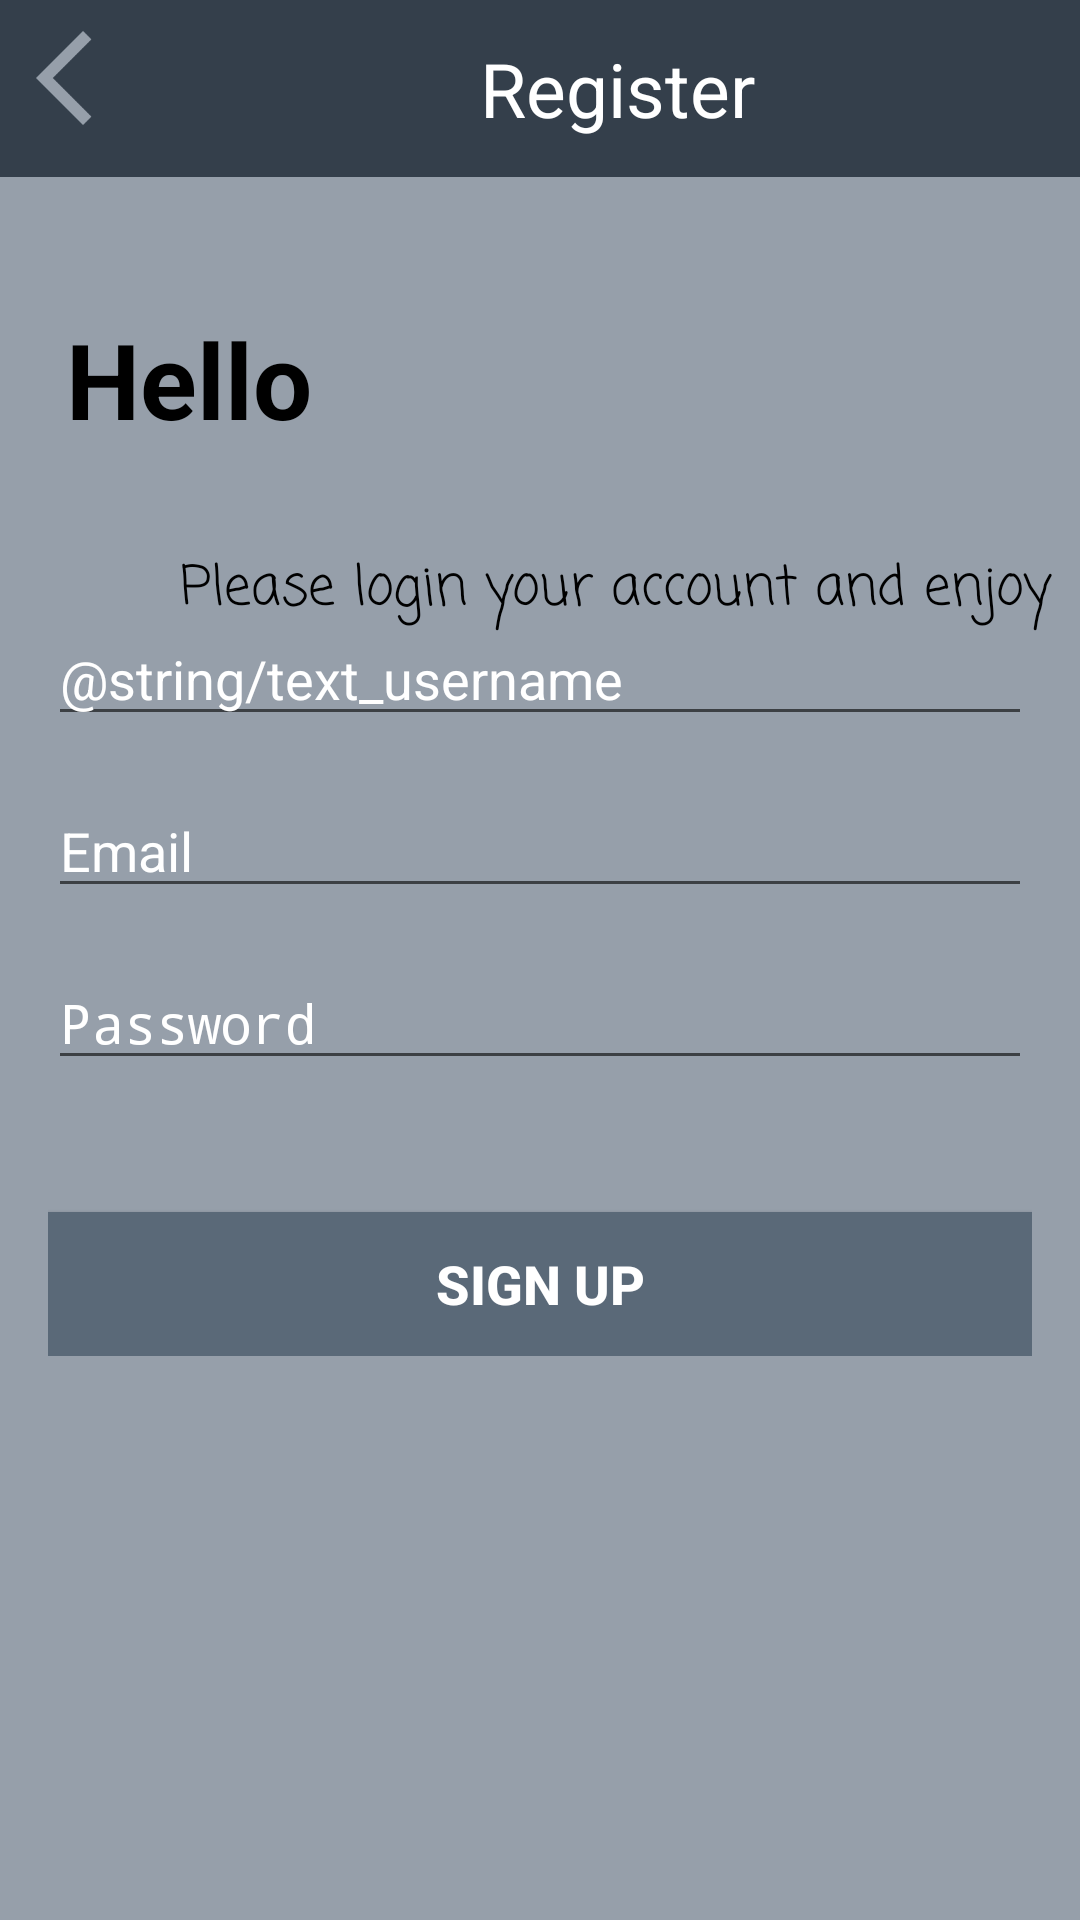

Icon bounding boxes for this 1080px x 1920px phone screenshot, format (x1, y1, x2, y2):
back arrow: (36, 31, 91, 125)
